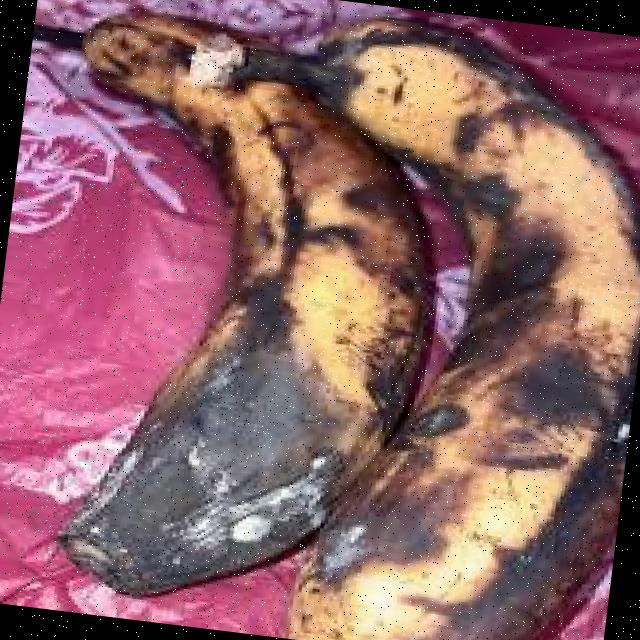Rotten: (0, 0, 461, 633), (210, 0, 640, 640)
